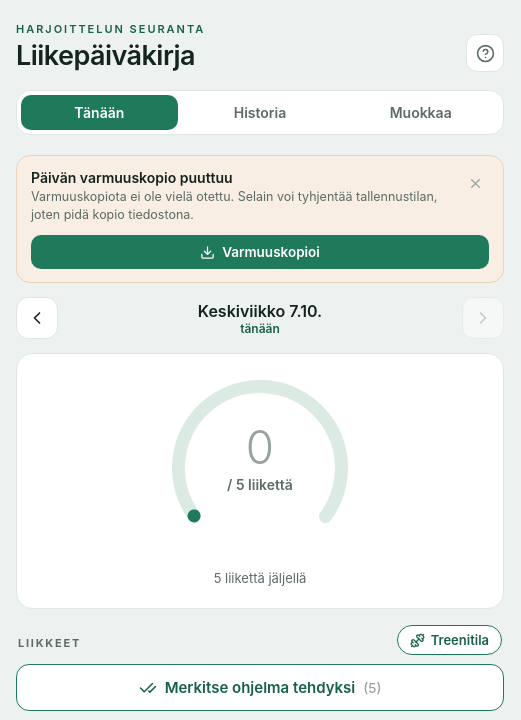
Test case: Historia range switching › survives 90 pv and Kaikki as well
Click the button "Historia" at (260, 112), box [182, 95, 338, 130]
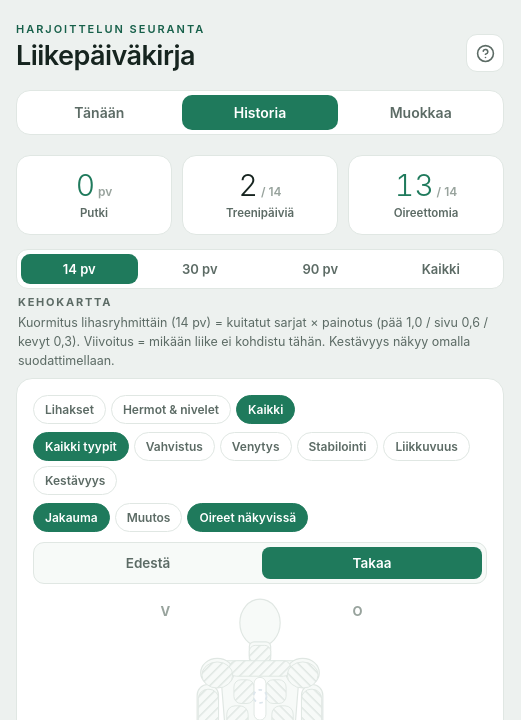
expect the button "90 pv" is shown: met
Click the button "90 pv" at (320, 269), box [262, 254, 378, 284]
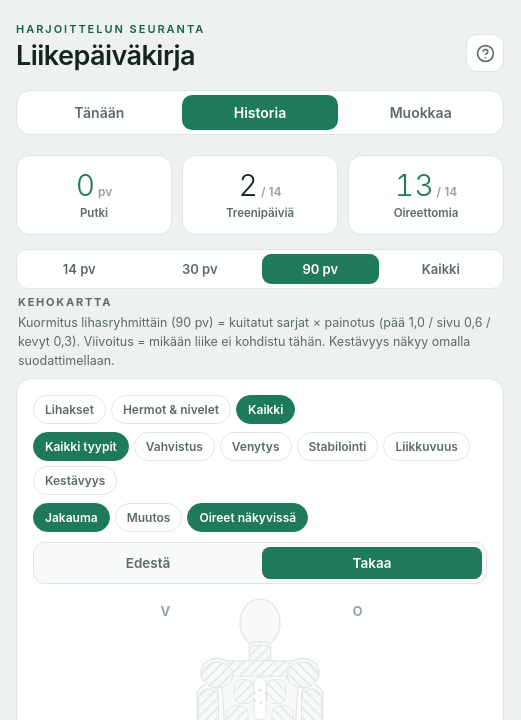
Click the 1st button "Kaikki" at (441, 269), box [382, 254, 499, 284]
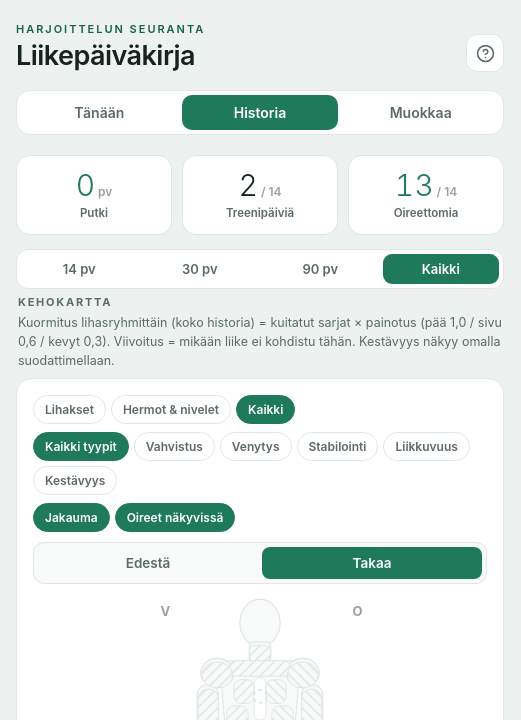
Click the button "14 pv" at (79, 269), box [21, 254, 138, 284]
(page scrolled)
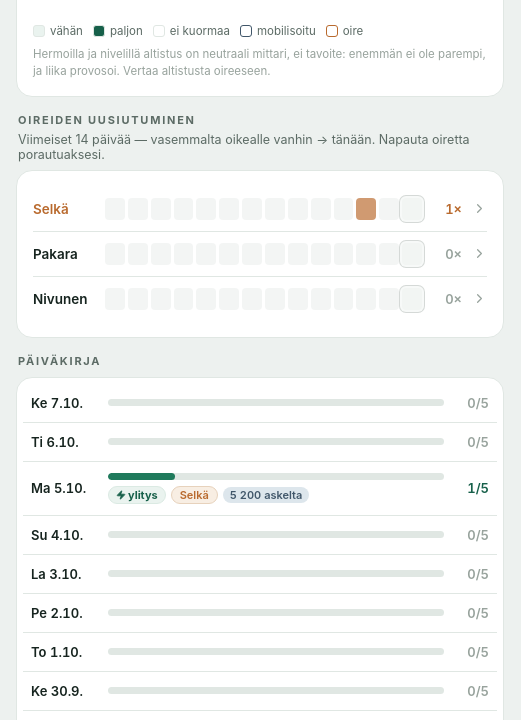
expect the text "Päiväkirja" is shown: met, box [18, 354, 101, 368]
